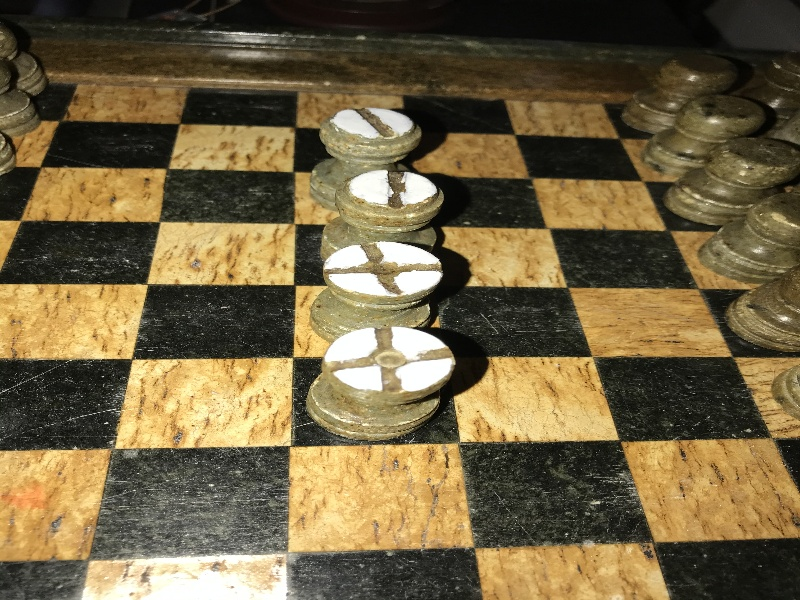WhiteBishop: (307, 326, 454, 439), (311, 241, 441, 341)
WhiteRook: (318, 170, 443, 258), (311, 108, 421, 203)
